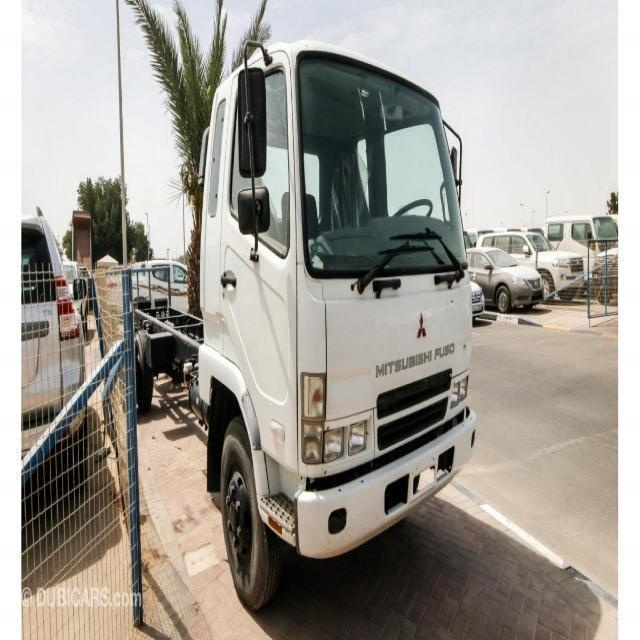Car: (11, 203, 97, 491), (502, 230, 588, 300), (469, 247, 546, 323), (120, 258, 202, 329)
Truck: (121, 31, 476, 608)
